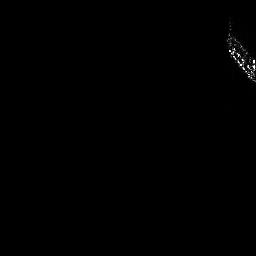ship: (226, 23, 256, 81)
